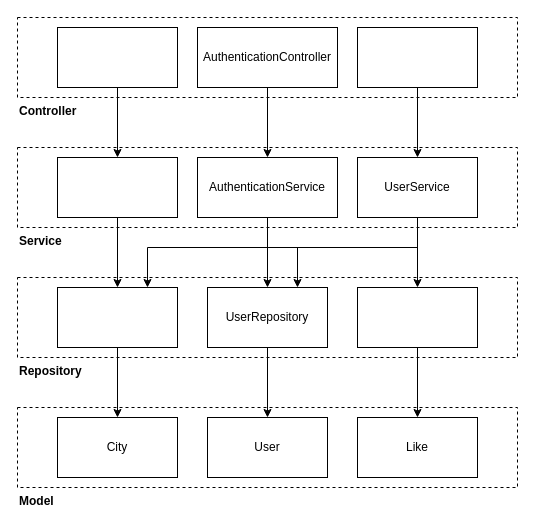
Some shapes in this 535 by 526 pixel diagram are drawn without their labels. The centre of each missing label's shape, as x and y in pixels:
CityController: (x=117, y=57)
CityRepository: (x=117, y=317)
CityService: (x=117, y=187)
LikeRepository: (x=417, y=317)
UserController: (x=417, y=57)
